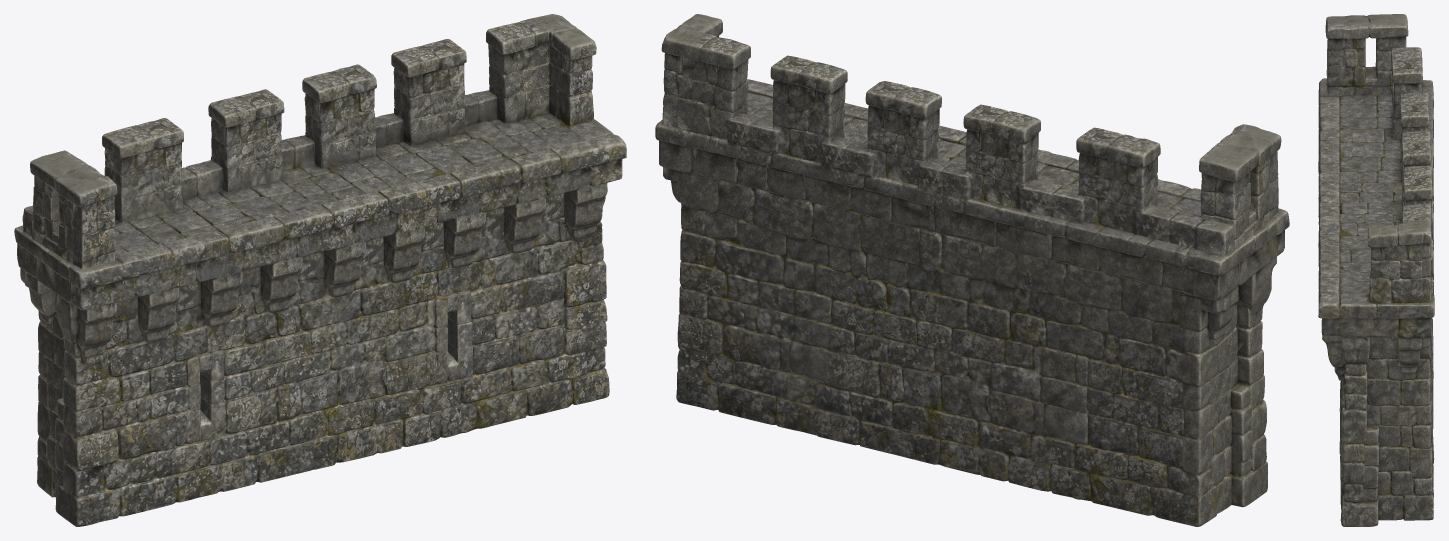
The model's file is castle_wall.glb.
The picture shows the model from 3 angles, left to right: view 1: azimuth 30°, elevation 25°; view 2: azimuth 150°, elevation 25°; view 3: azimuth 270°, elevation 25°; orthographic projection. The views are drawn at different scales.
Visible parts, largest first — view 1: castle_wall; view 2: castle_wall; view 3: castle_wall.
Part boxes in pixels (box(x1,y1,x2,y2)): castle_wall: box(14, 14, 626, 526); castle_wall: box(655, 14, 1289, 526); castle_wall: box(1318, 14, 1434, 526).
Bounding box in the file's own units: 1.9 × 1.15 × 0.4131.
1 material, 1 textured.
